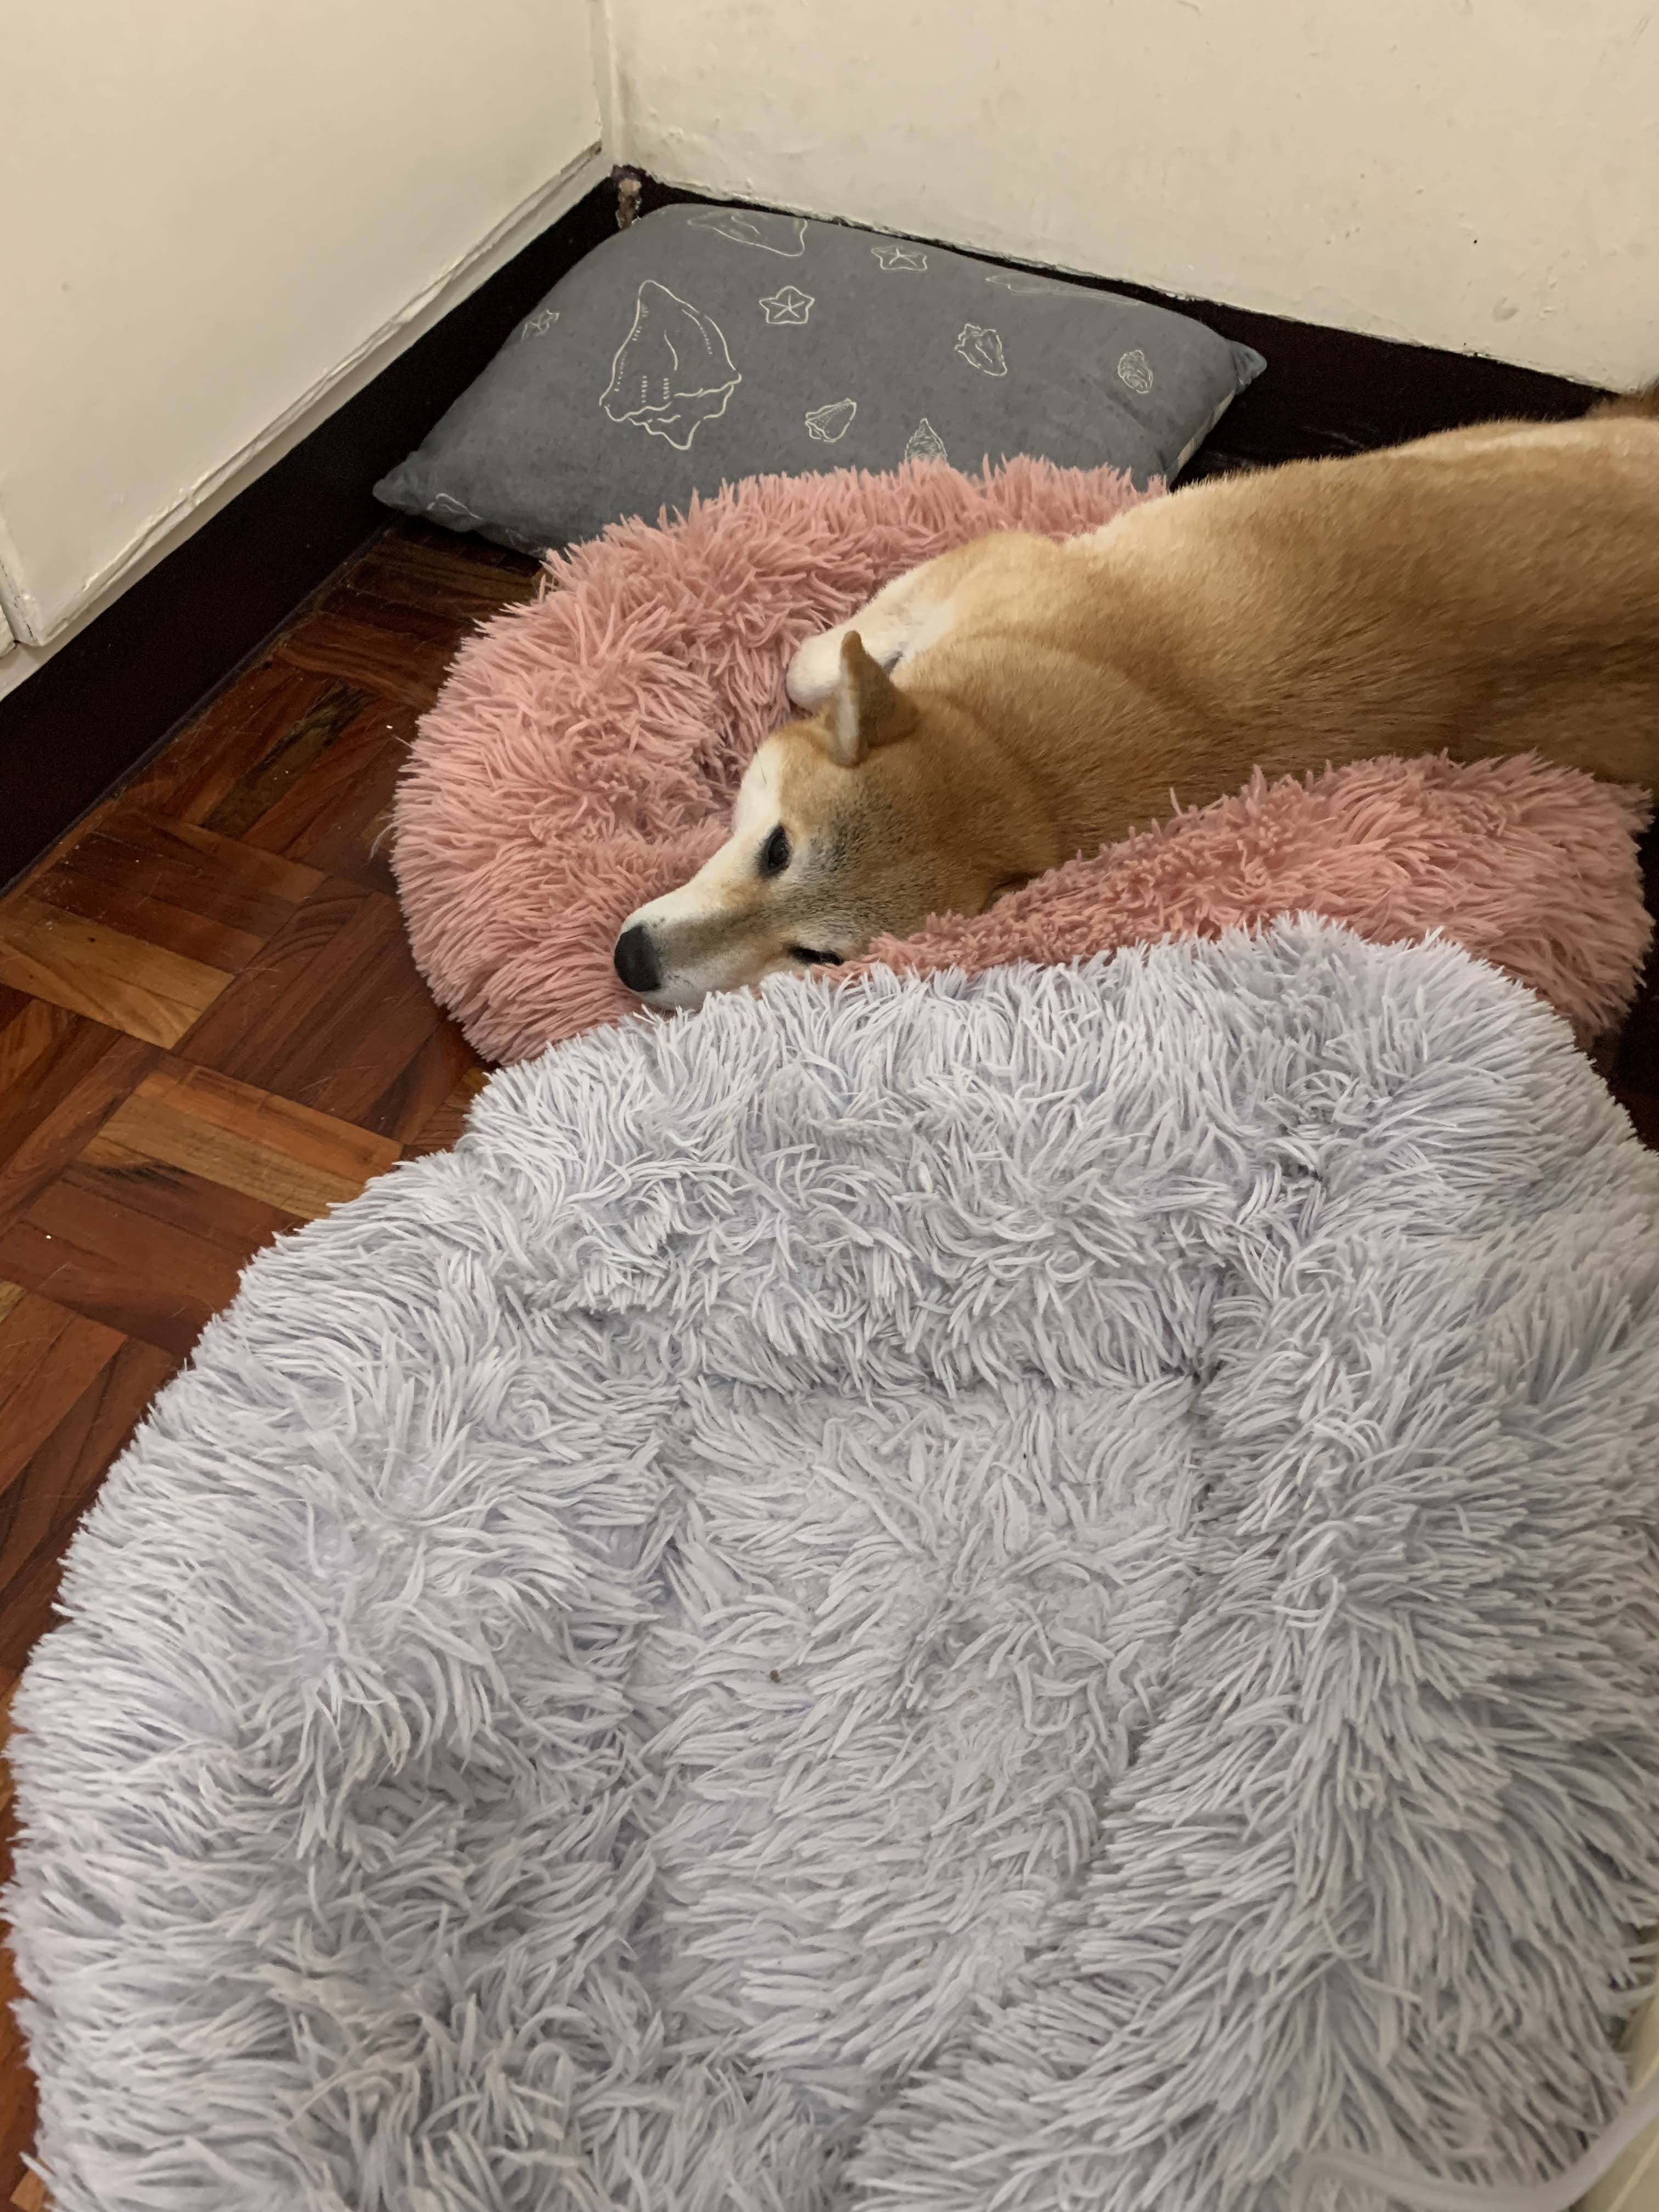Lie down: (606, 402, 1659, 1069)
